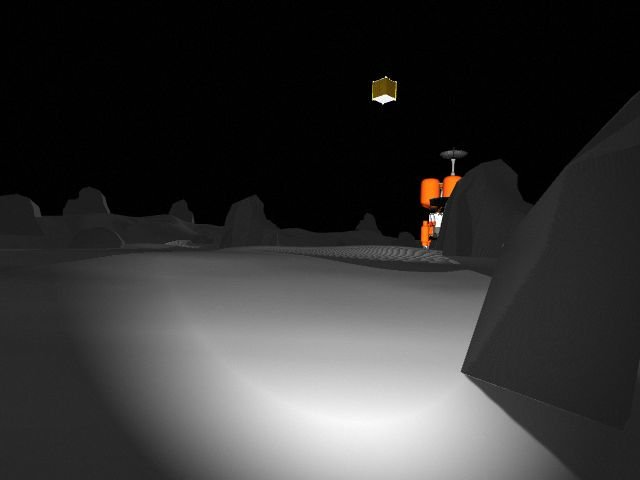cubesat: (367, 72, 403, 109)
